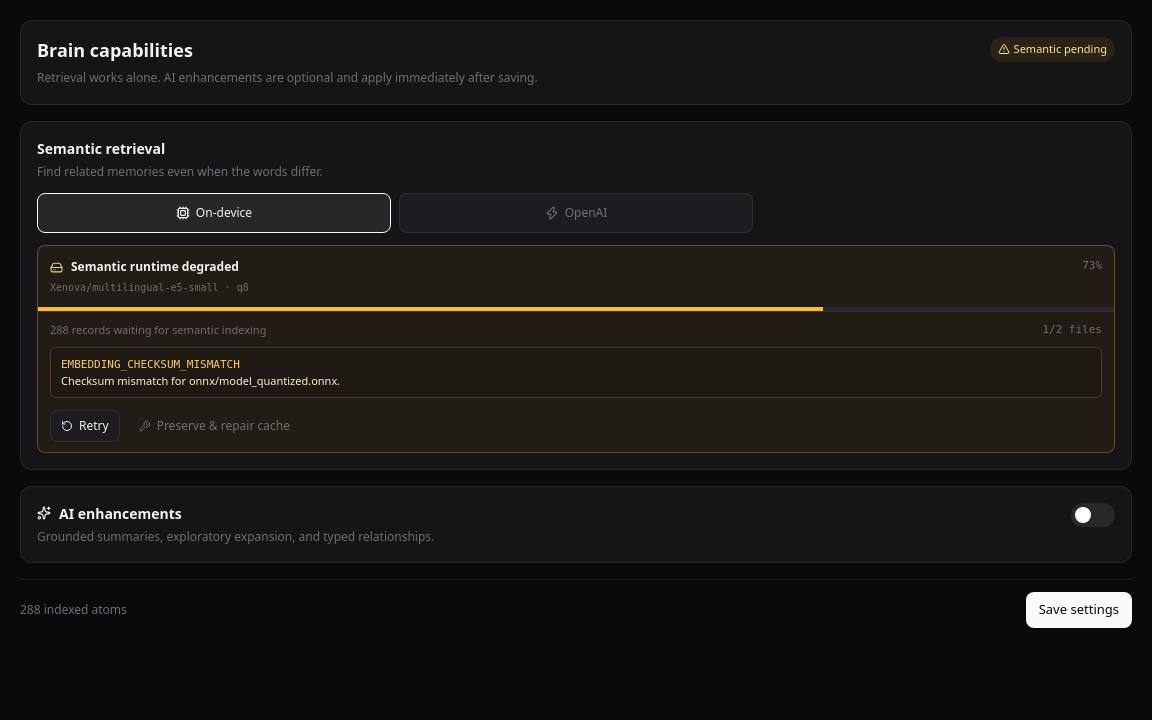
Test: <BrainConfigWizard /> embedding recovery › shows the real phase, failure artifact, backlog, and recovery actions
The image size is (1152, 720).
Check: the text "Semantic runtime degraded" is shown, box [50, 258, 249, 276]
Check: the text "288 records waiting for semantic indexing" is shown, box [50, 322, 266, 338]
Click the button "Retry". click: click(85, 426)
box: [50, 410, 120, 442]
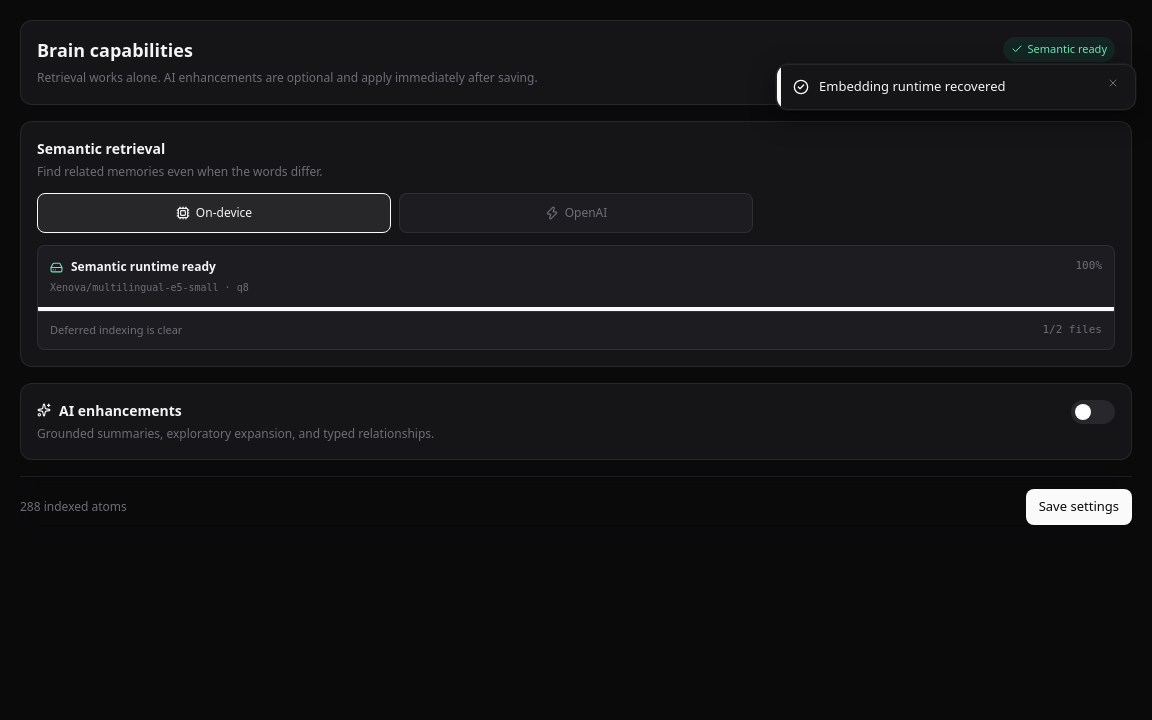
Check: the text "Semantic runtime ready" is shown, box [50, 258, 216, 275]
Check: the text "Deferred indexing is clear" is shown, box [50, 322, 182, 338]
